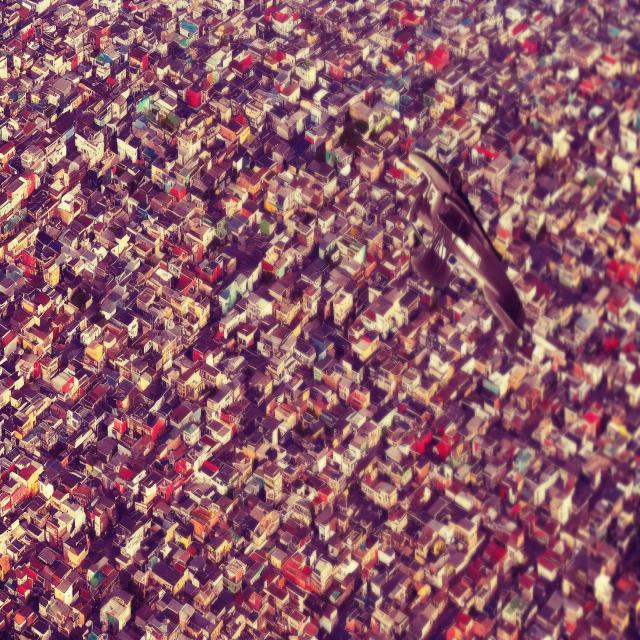airplane: (406, 147, 526, 361)
